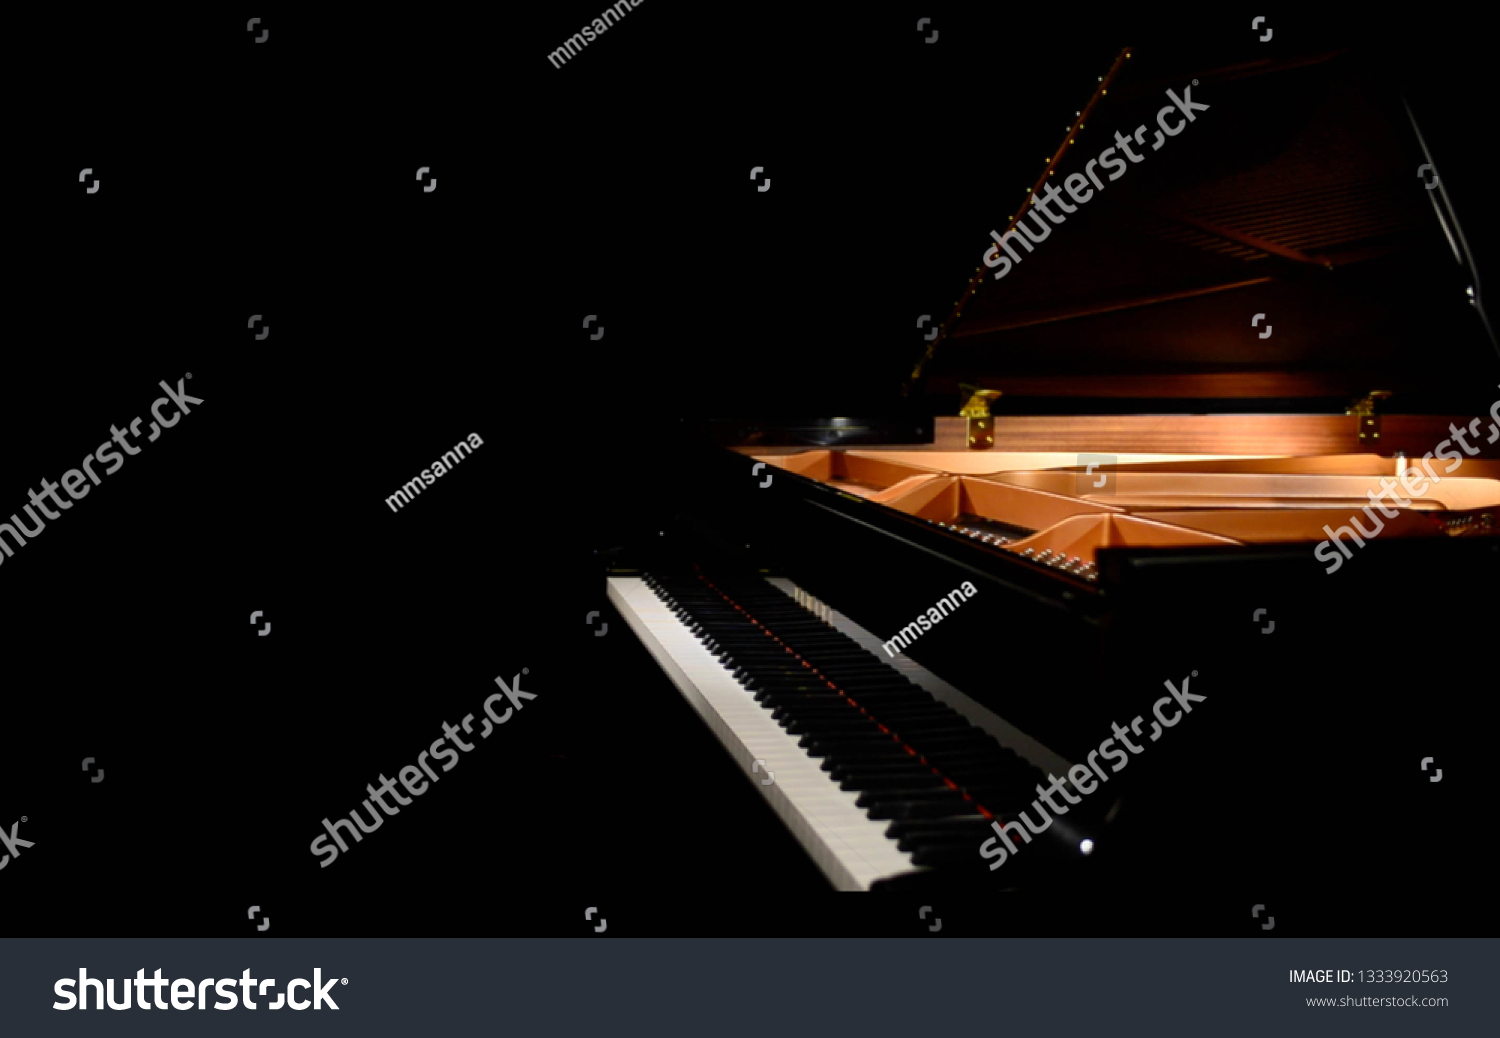Piano: (511, 325, 1280, 968)
